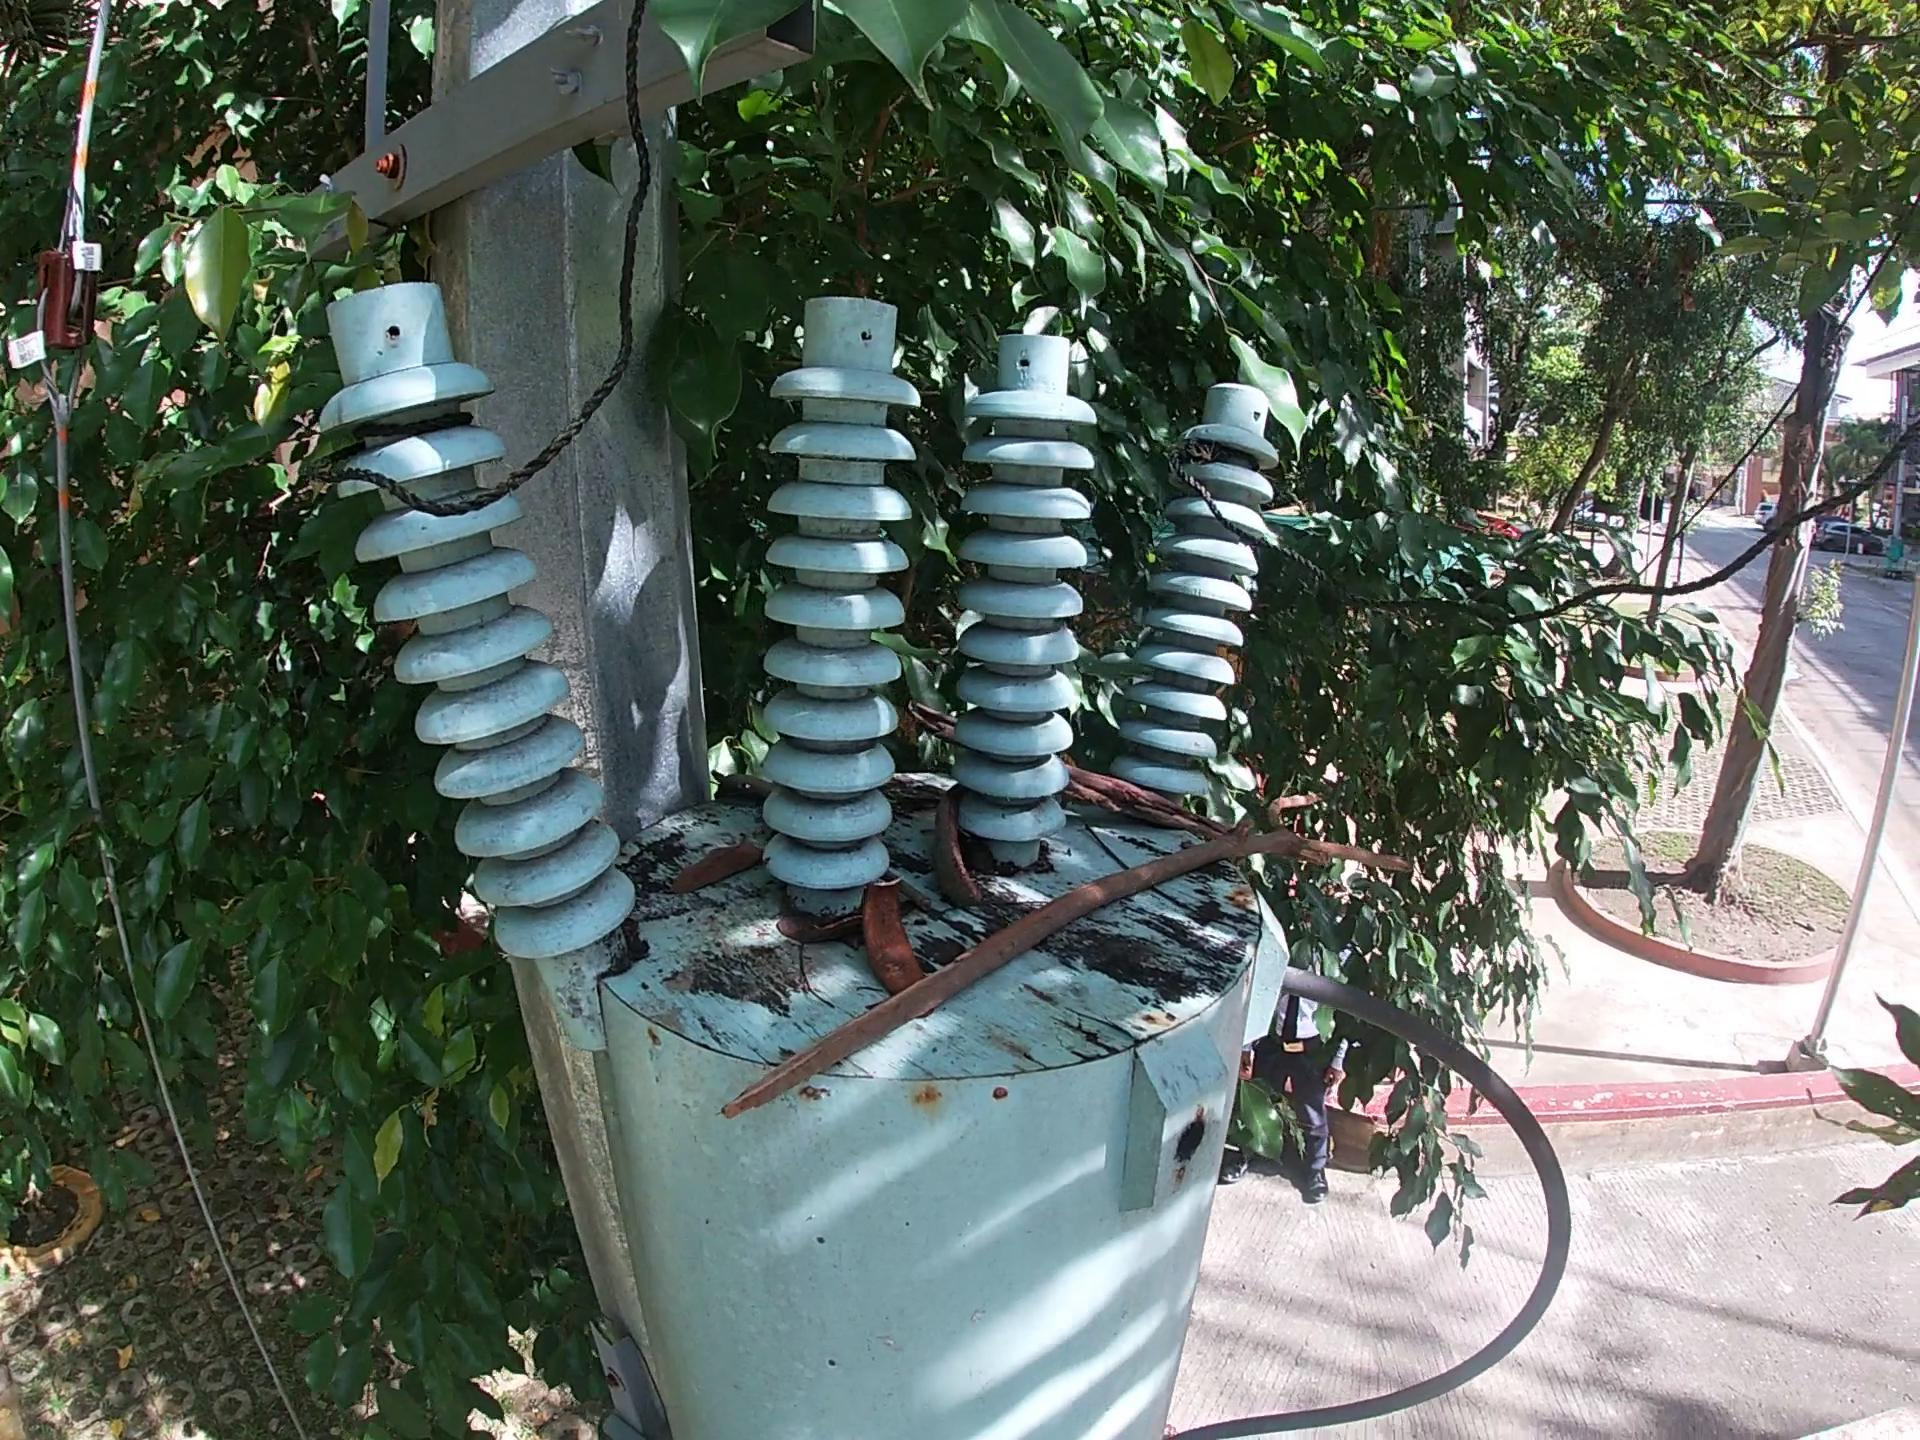leaf: (662, 833, 766, 900), (770, 905, 847, 959)
mahogany fruit: (859, 876, 927, 997), (927, 784, 987, 911)
tree branch: (714, 784, 1420, 1125), (903, 700, 1246, 846), (884, 867, 930, 917)
